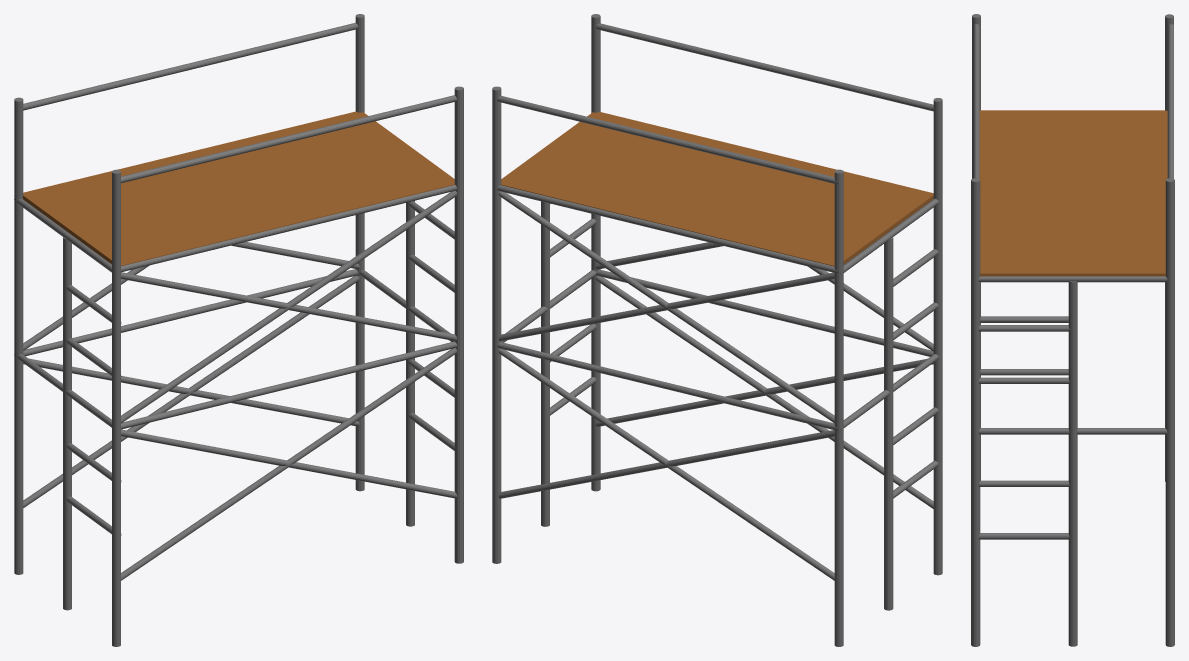
The model's file is Scaffold.fbx.
The picture shows the model from 3 angles, left to right: view 1: azimuth 30°, elevation 25°; view 2: azimuth 150°, elevation 25°; view 3: azimuth 270°, elevation 25°; orthographic projection.
Parts seen in each view (by area): view 1: Cube.008; view 2: Cube.008; view 3: Cube.008.
Part boxes in pixels (left/top/right/bottom): Cube.008: left=14, top=14, right=463, bottom=646; Cube.008: left=492, top=14, right=942, bottom=646; Cube.008: left=971, top=14, right=1174, bottom=646.
Bounding box in the file's own units: 1644 × 2117 × 840.
